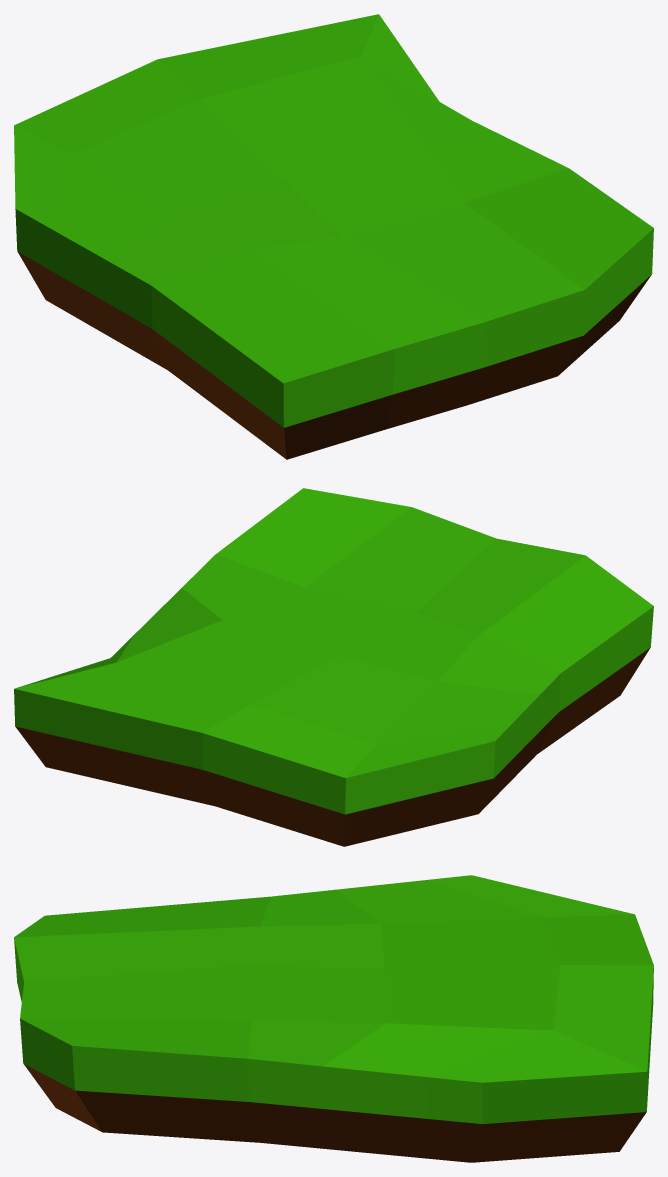
File: LowPolyGround.fbx
The picture shows the model from 3 angles, top to bottom: view 1: azimuth 30°, elevation 25°; view 2: azimuth 150°, elevation 25°; view 3: azimuth 270°, elevation 25°; orthographic projection. The views are drawn at different scales.
Visible parts, largest first — view 1: Plane; view 2: Plane; view 3: Plane.
Boxes of the visible parts, box(x1,y1,x2,y2) form: Plane: box(14, 14, 653, 459); Plane: box(14, 488, 653, 846); Plane: box(14, 875, 653, 1162).
Size of the model in its own units: 293 by 89.03 by 374.
